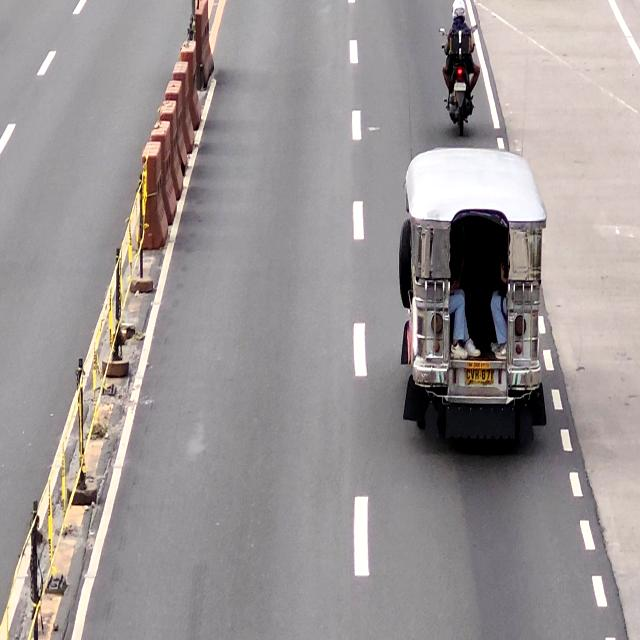Jeep: (399, 146, 548, 454)
License-Plate: (464, 366, 494, 386), (453, 82, 466, 92)
Motorcycle: (440, 26, 479, 139)
